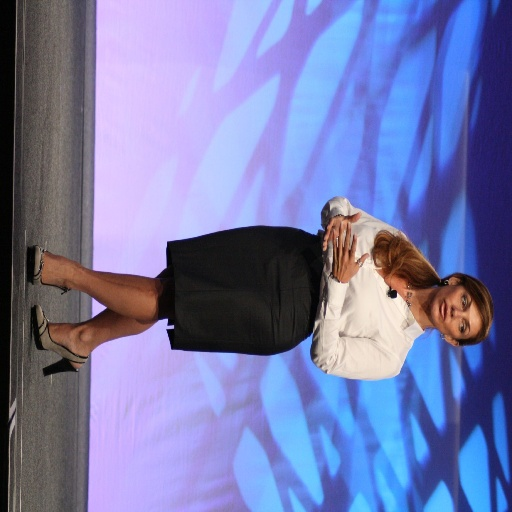hand: (334, 214, 372, 291), (322, 209, 359, 251)
